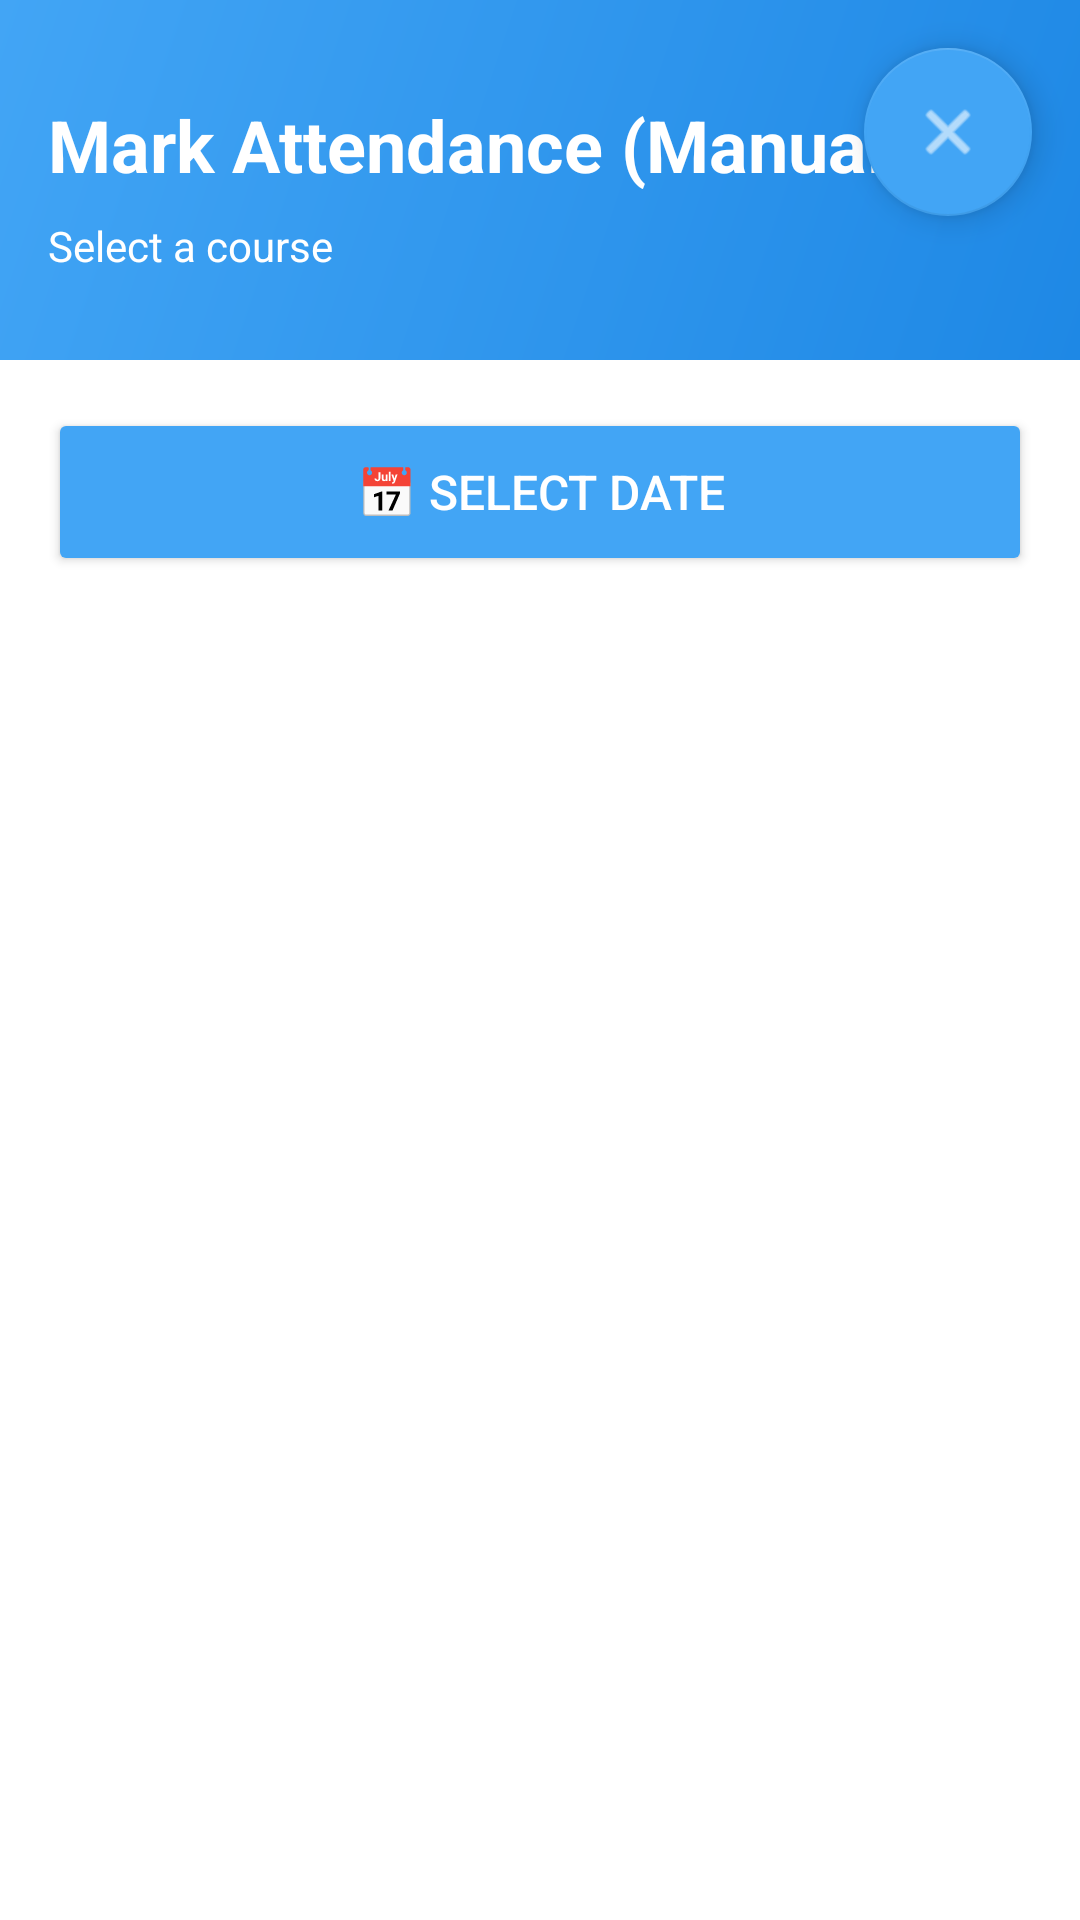

Icons on this 1080*1920 Android screen, each with its box as (x1, y1, x2, y2):
close clear cancel: (864, 48, 1032, 216)
